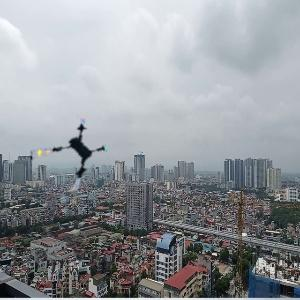drone: (32, 118, 109, 195)
